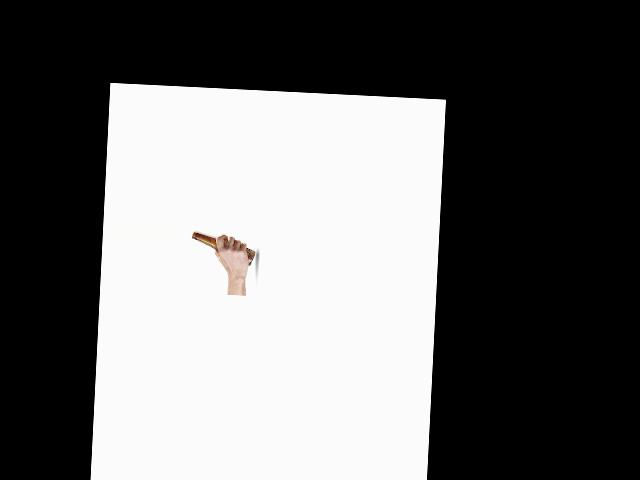beer: (191, 231, 257, 266)
